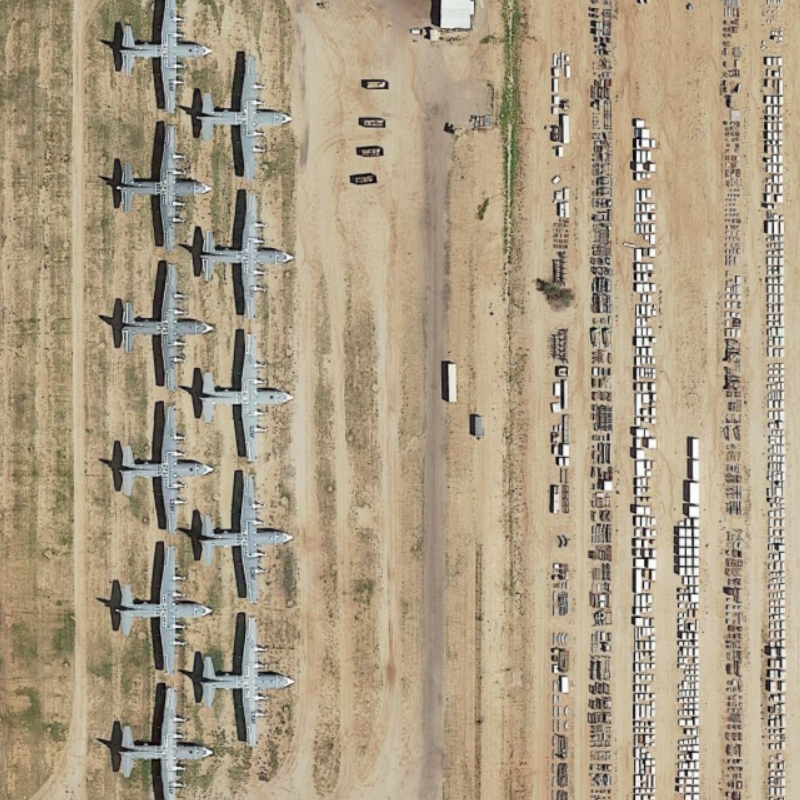A2: (193, 611, 302, 750), (194, 469, 304, 605), (110, 536, 215, 678), (115, 255, 219, 396), (196, 325, 300, 466), (107, 403, 216, 536), (194, 189, 297, 327), (108, 122, 215, 250), (192, 47, 296, 178), (115, 680, 218, 800), (108, 2, 214, 113)
